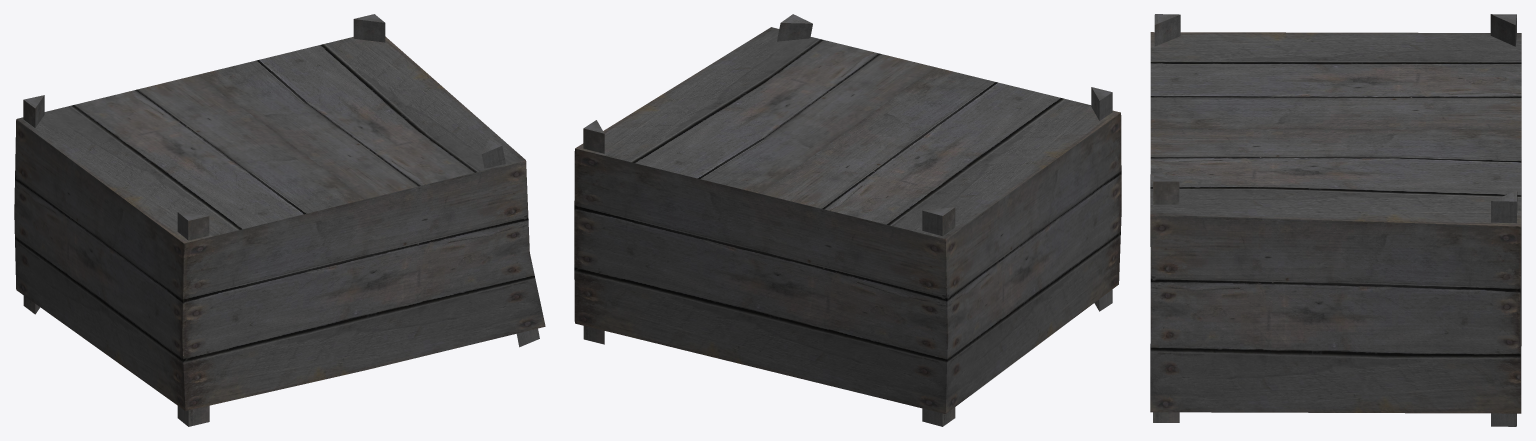
Rendered from Crate02damaged_LOD02.fbx.
The picture shows the model from 3 angles, left to right: view 1: azimuth 30°, elevation 25°; view 2: azimuth 150°, elevation 25°; view 3: azimuth 270°, elevation 25°; orthographic projection. The views are drawn at different scales.
Parts seen in each view (by area): view 1: Mesh Object; view 2: Mesh Object; view 3: Mesh Object.
Part boxes in pixels (x1,y1,x2,y2): Mesh Object: (14,14,545,426); Mesh Object: (574,14,1121,426); Mesh Object: (1150,14,1521,426).
Bounding box in the file's own units: 0.6318 × 0.3408 × 0.5067.
